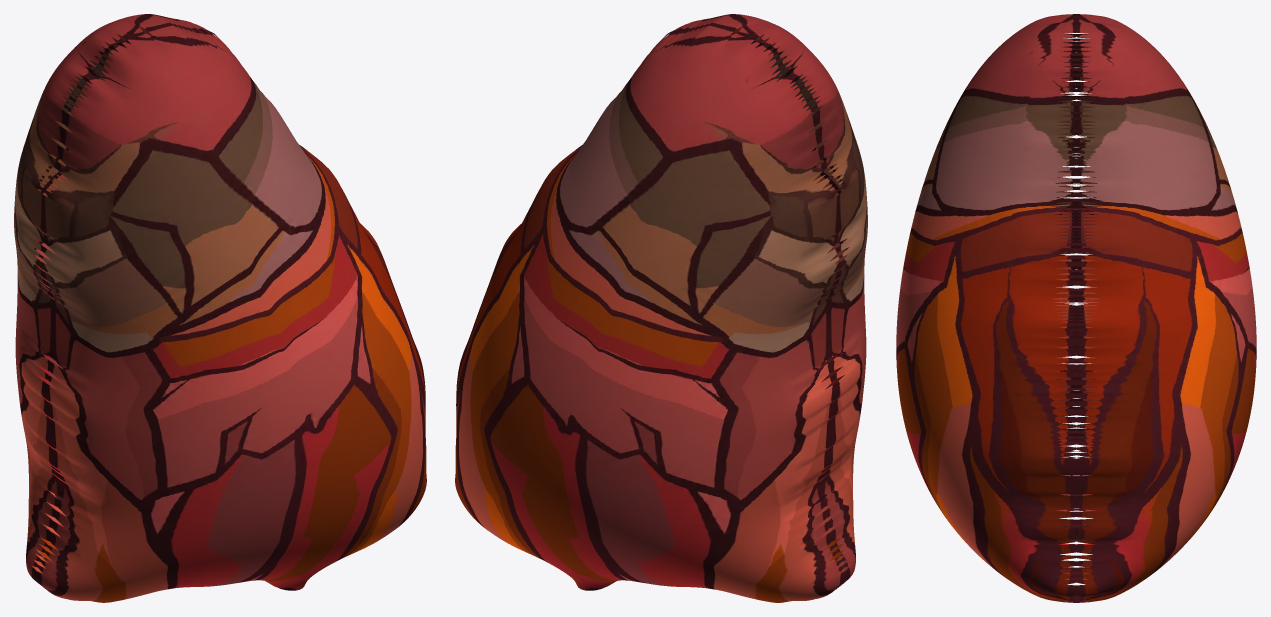
File: fractured_buttress.glb
3 renders of one model, left to right at view 1: azimuth 30°, elevation 25°; view 2: azimuth 150°, elevation 25°; view 3: azimuth 270°, elevation 25°, orthographic. The views are drawn at different scales.
Parts seen in each view (by area): view 1: fractured_buttress; view 2: fractured_buttress; view 3: fractured_buttress.
Part boxes in pixels (x1,y1,x2,y2): fractured_buttress: [14, 14, 426, 602]; fractured_buttress: [455, 14, 867, 602]; fractured_buttress: [896, 14, 1256, 602].
Bounding box in the file's own units: 0.9849 × 1.37 × 0.9079.
Materials: 1 (1 with a texture image).
